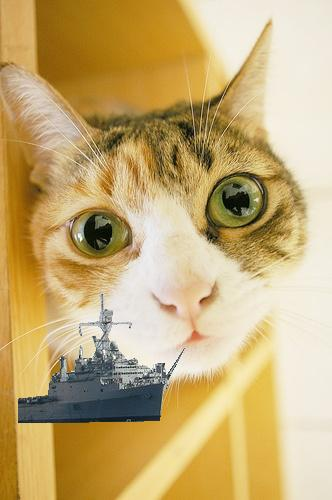tampered: (19, 294, 185, 423)
